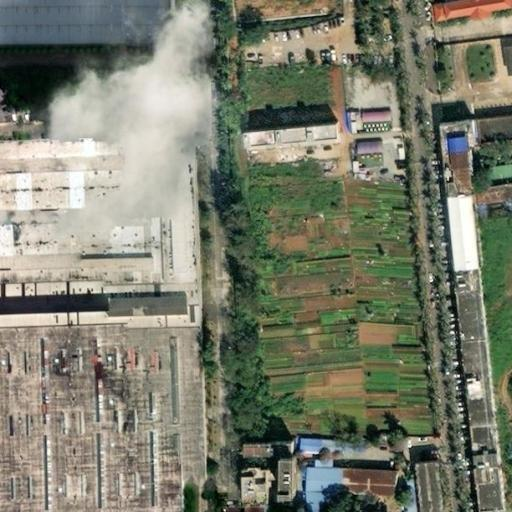building: (69, 96, 166, 130), (447, 201, 482, 278), (440, 130, 475, 204), (409, 455, 440, 512), (470, 464, 503, 512), (466, 112, 512, 143), (336, 472, 390, 495), (244, 476, 276, 512), (346, 111, 382, 138), (474, 188, 512, 209), (304, 471, 336, 495), (274, 132, 310, 153), (372, 153, 398, 181), (288, 471, 304, 512), (308, 129, 340, 149), (244, 452, 292, 465), (245, 137, 276, 157), (353, 92, 381, 113), (292, 440, 328, 456), (303, 494, 327, 512), (498, 50, 512, 78), (304, 460, 324, 471), (507, 445, 512, 487), (345, 176, 373, 182), (340, 123, 348, 138), (386, 146, 396, 154)
